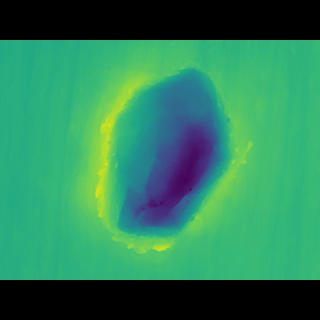Loch: (75, 83, 259, 246)
